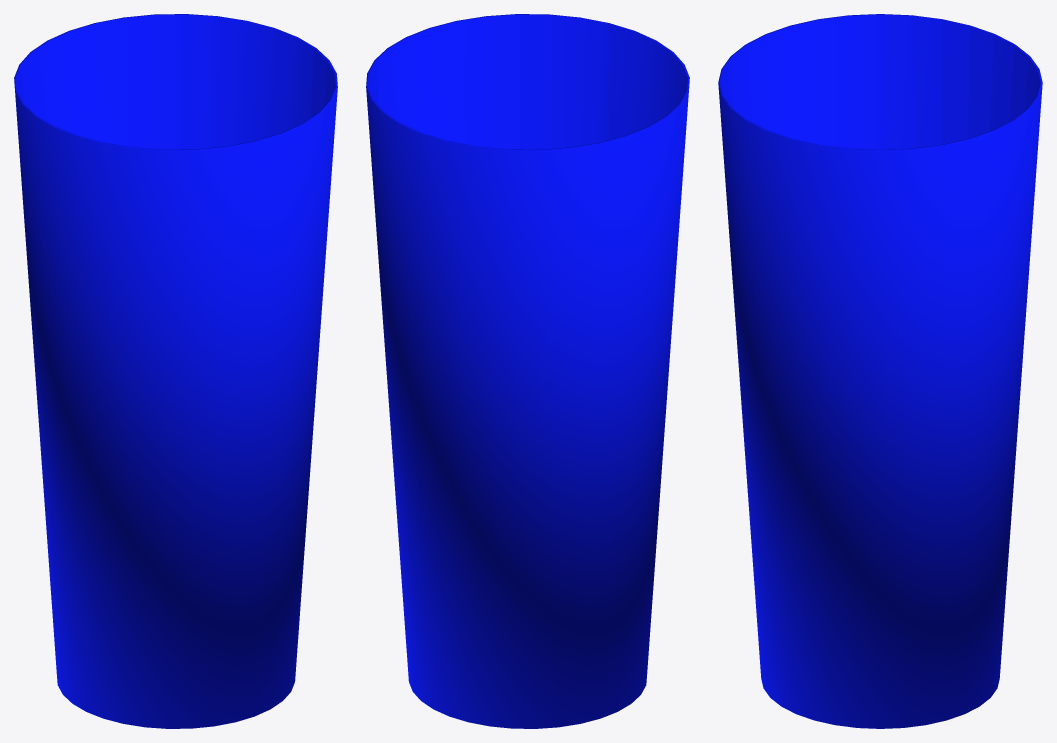
File: blue_cup.glb
3 views of the same model, side by side, from view 1: azimuth 30°, elevation 25°; view 2: azimuth 150°, elevation 25°; view 3: azimuth 270°, elevation 25° (orthographic).
Parts seen in each view (by area): view 1: Cylinder_Cylinder.003; view 2: Cylinder_Cylinder.003; view 3: Cylinder_Cylinder.003.
Boxes of the visible parts, box(x1,y1,x2,y2) form: Cylinder_Cylinder.003: box(14, 14, 337, 728); Cylinder_Cylinder.003: box(366, 14, 689, 728); Cylinder_Cylinder.003: box(718, 14, 1042, 728).
Bounding box in the file's own units: 2.13 × 4.31 × 2.13.
